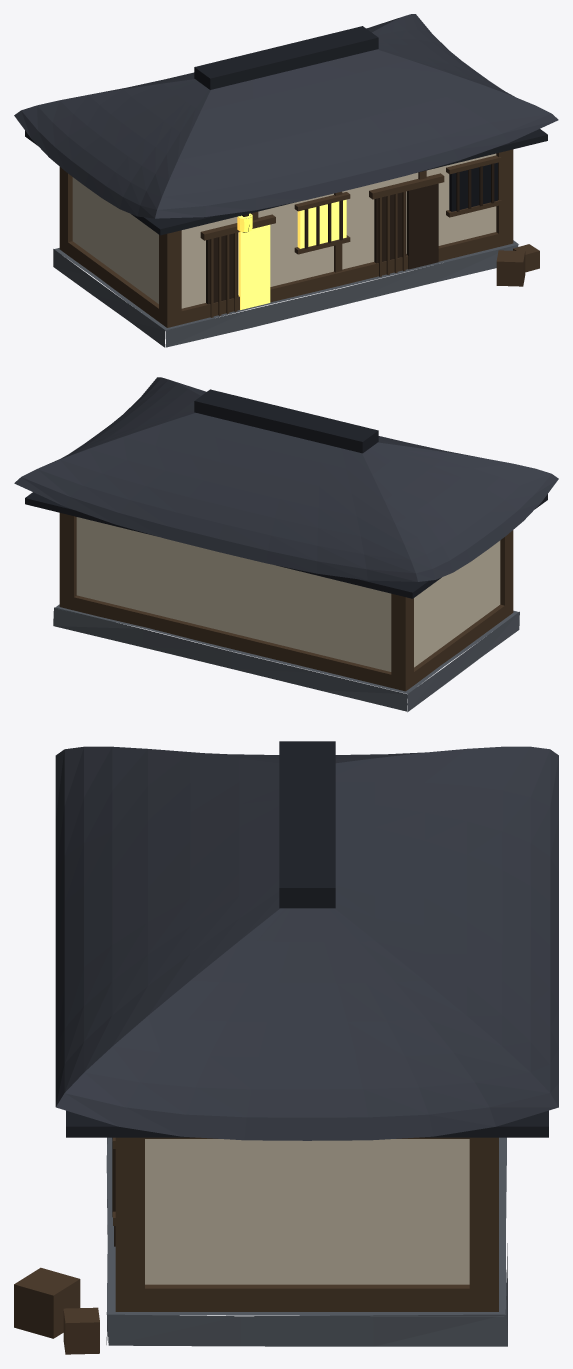
File: 2-18_house_a_nagaya.glb
The picture shows the model from 3 angles, top to bottom: view 1: azimuth 30°, elevation 25°; view 2: azimuth 150°, elevation 25°; view 3: azimuth 270°, elevation 25°; orthographic projection. The views are drawn at different scales.
Visible parts, largest first — view 1: 民家A（長屋）; view 2: 民家A（長屋）; view 3: 民家A（長屋）.
Boxes of the visible parts, x1,y1,x2,y2 form: 民家A（長屋）: (14, 14, 558, 347); 民家A（長屋）: (14, 377, 558, 712); 民家A（長屋）: (14, 741, 558, 1354).
Bounding box in the file's own units: 9.6 × 4.82 × 6.28.
